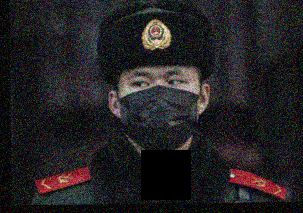with_mask: (117, 66, 202, 153)
